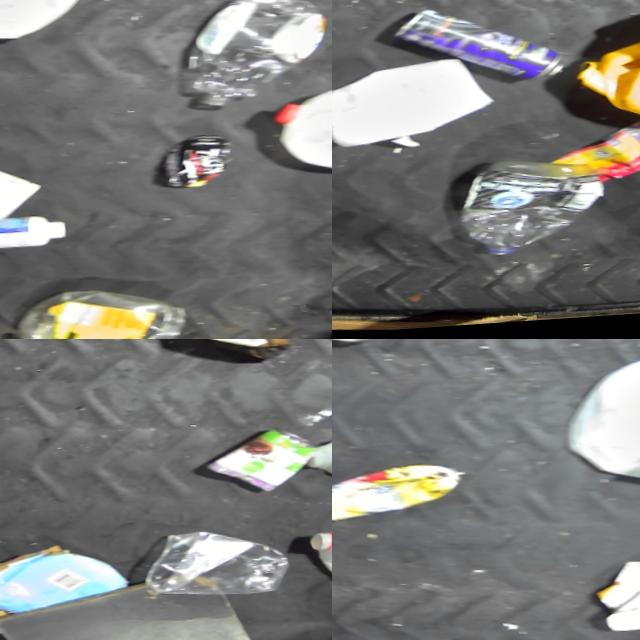can: (392, 2, 581, 94), (332, 455, 473, 533), (203, 429, 326, 501), (169, 136, 239, 196), (607, 122, 640, 177)
milk_jug: (565, 345, 640, 495), (275, 76, 332, 194), (0, 0, 102, 51), (303, 524, 332, 613)
non_white_jug: (574, 0, 640, 146)
plastic_bottle: (182, 0, 332, 119), (464, 157, 620, 268)
